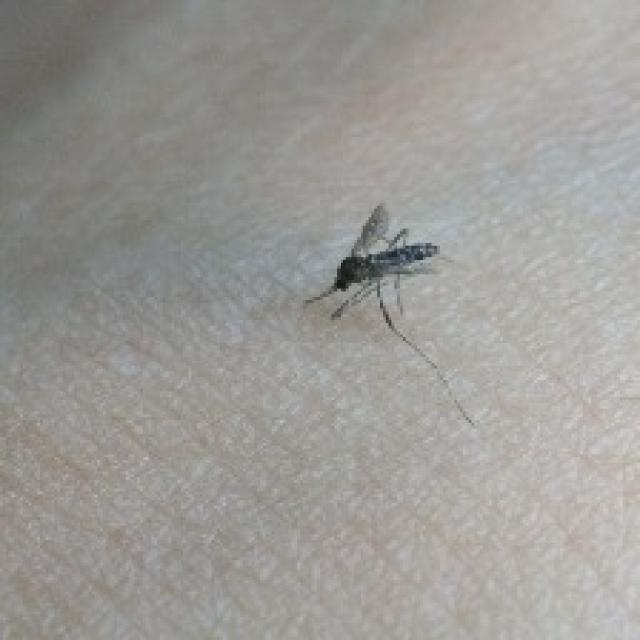aedes: (300, 200, 477, 429)
